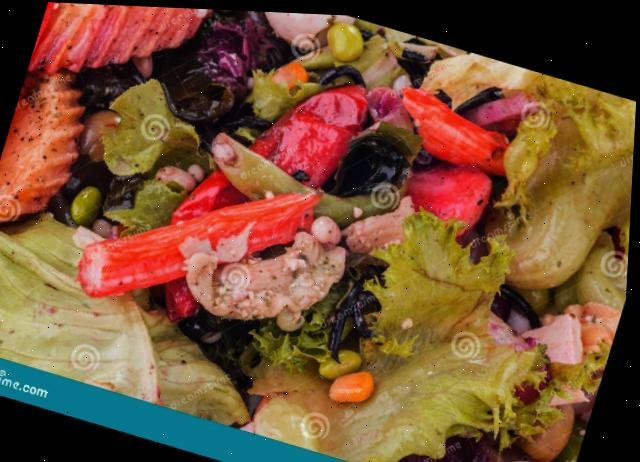Garbage: (0, 2, 637, 462)
